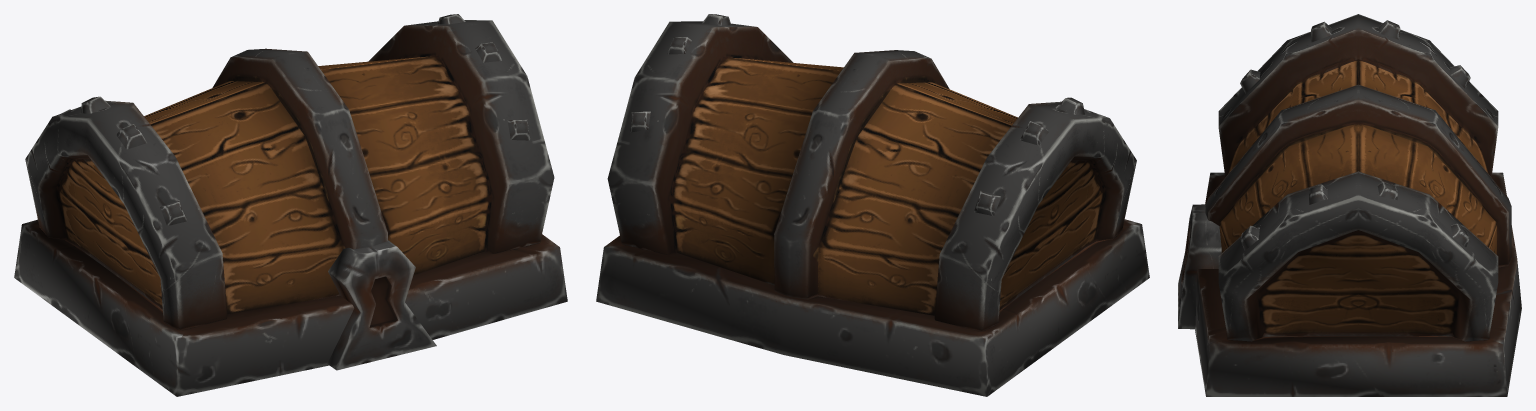
Rendered from chest_cover.fbx.
3 renders of one model, left to right at view 1: azimuth 30°, elevation 25°; view 2: azimuth 150°, elevation 25°; view 3: azimuth 270°, elevation 25°, orthographic. The views are drawn at different scales.
Visible parts, largest first — view 1: chest_cover; view 2: chest_cover; view 3: chest_cover.
Boxes of the visible parts, <box> form: chest_cover: <box>14,14,567,396</box>; chest_cover: <box>596,14,1149,396</box>; chest_cover: <box>1178,14,1521,396</box>.
Bounding box in the file's own units: 54.48 × 30.28 × 43.23.
